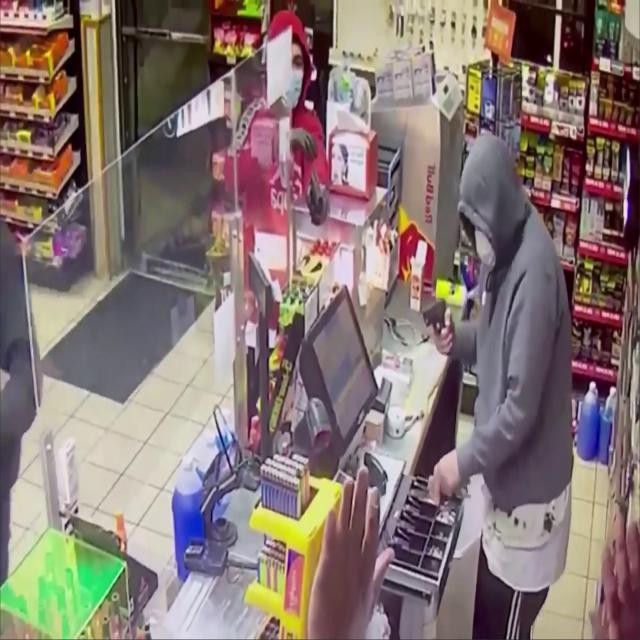Gun: (422, 300, 451, 356), (309, 170, 323, 224)
